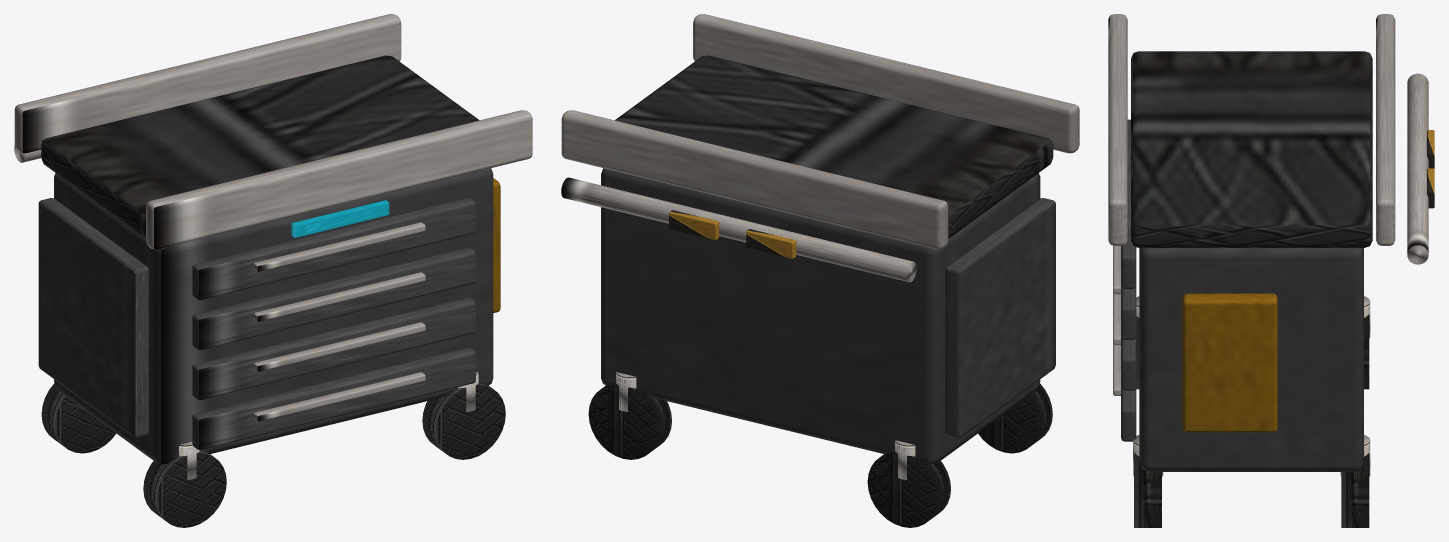
The model's file is room_l1_img2_mobile_repair_cart.glb.
The picture shows the model from 3 angles, left to right: view 1: azimuth 30°, elevation 25°; view 2: azimuth 150°, elevation 25°; view 3: azimuth 270°, elevation 25°; orthographic projection.
Parts seen in each view (by area): view 1: cart_main_drawer_bank, cart_top_rubber_mat, cart_recessed_side_panel_left, cart_top_lip_front, cart_top_lip_back, cart_drawer_front_3, cart_drawer_front_2, cart_drawer_front_4, cart_drawer_front_1, cart_rubber_caster_-0.38_-0.24, cart_rubber_caster_0.38_-0.24, cart_rubber_caster_-0.38_0.24 (+6 smaller); view 2: cart_main_drawer_bank, cart_top_rubber_mat, cart_recessed_side_panel_left, cart_top_lip_back, cart_top_lip_front, cart_push_handle_back, cart_rubber_caster_-0.38_0.24, cart_rubber_caster_0.38_0.24, cart_rubber_caster_-0.38_-0.24, room_l1_img2_mobile_repair_cart; view 3: cart_top_rubber_mat, cart_main_drawer_bank, cart_yellow_side_access_plate, cart_top_lip_front, cart_top_lip_back, cart_push_handle_back, cart_rubber_caster_0.38_0.24, cart_rubber_caster_0.38_-0.24, cart_drawer_front_1, cart_drawer_front_4, cart_drawer_front_2, cart_drawer_front_3 (+5 smaller).
Boxes of the visible parts, x1,y1,x2,y2 form: cart_main_drawer_bank: (54, 168, 493, 464); cart_top_rubber_mat: (41, 55, 479, 238); cart_recessed_side_panel_left: (38, 198, 148, 437); cart_top_lip_front: (146, 110, 532, 249); cart_top_lip_back: (14, 14, 401, 153); cart_drawer_front_3: (192, 297, 475, 399); cart_drawer_front_2: (192, 248, 475, 349); cart_drawer_front_4: (192, 347, 475, 449); cart_drawer_front_1: (192, 198, 475, 299); cart_rubber_caster_-0.38_-0.24: (143, 451, 226, 527); cart_rubber_caster_0.38_-0.24: (422, 383, 505, 459); cart_rubber_caster_-0.38_0.24: (41, 383, 116, 453); cart_main_drawer_bank: (601, 168, 1040, 464); cart_top_rubber_mat: (615, 55, 1053, 238); cart_recessed_side_panel_left: (945, 198, 1055, 437); cart_top_lip_back: (561, 110, 948, 249); cart_top_lip_front: (693, 14, 1079, 153); cart_push_handle_back: (561, 177, 916, 282); cart_rubber_caster_-0.38_0.24: (867, 451, 950, 527); cart_rubber_caster_0.38_0.24: (588, 383, 671, 459); cart_rubber_caster_-0.38_-0.24: (978, 383, 1052, 453); room_l1_img2_mobile_repair_cart: (669, 210, 796, 258); cart_top_rubber_mat: (1131, 51, 1372, 247); cart_main_drawer_bank: (1139, 248, 1363, 471); cart_yellow_side_access_plate: (1182, 293, 1277, 432); cart_top_lip_front: (1108, 14, 1127, 245); cart_top_lip_back: (1376, 14, 1395, 245); cart_push_handle_back: (1407, 73, 1428, 264); cart_rubber_caster_0.38_0.24: (1341, 453, 1369, 527); cart_rubber_caster_0.38_-0.24: (1134, 453, 1161, 527); cart_drawer_front_1: (1121, 119, 1136, 288); cart_drawer_front_4: (1121, 388, 1136, 441); cart_drawer_front_2: (1121, 286, 1136, 339); cart_drawer_front_3: (1121, 337, 1136, 390).
Size of the model in its own units: 1.05 by 0.89 by 0.7565.
7 materials, 7 textured.
